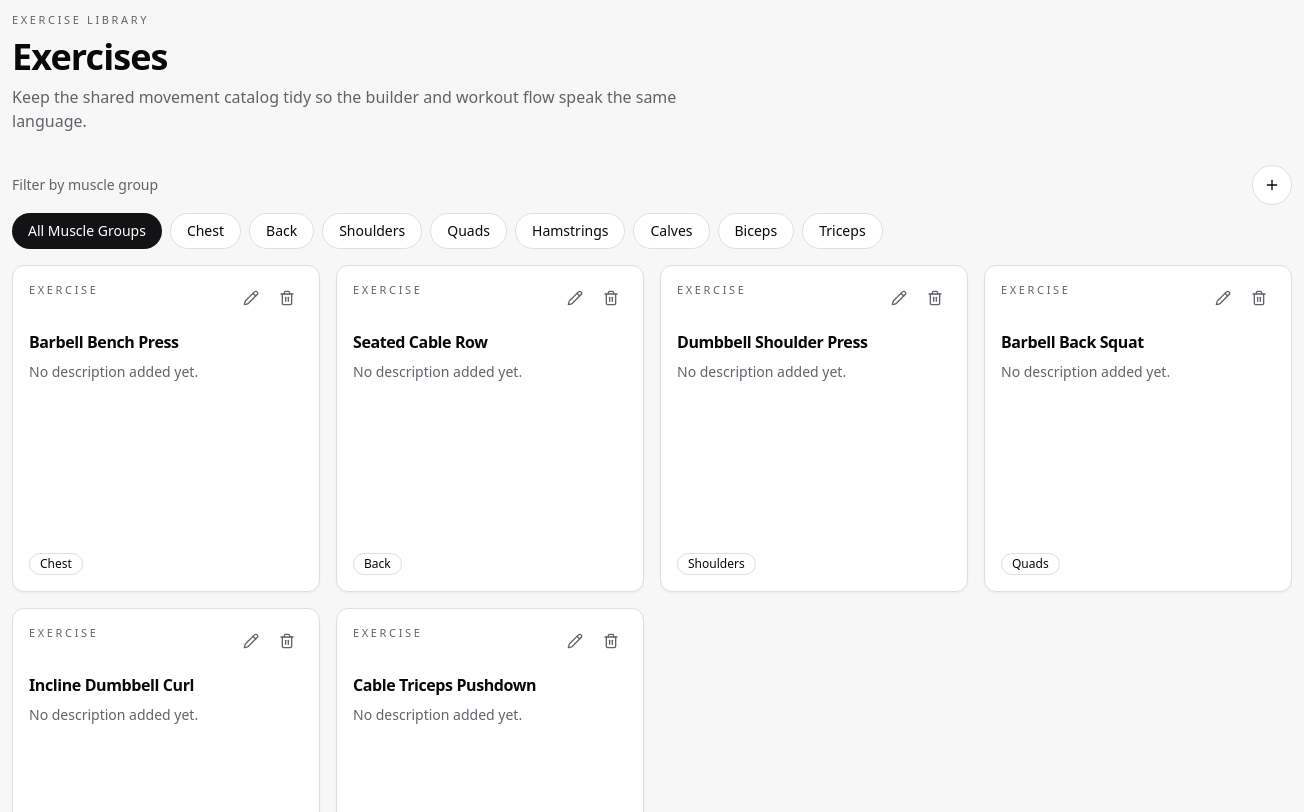
Test: ExercisesPage › cancels inline exercise edits without changing the card
Click the button named "edit barbell bench press exercise" at {"x": 251, "y": 298}, box [235,282,267,314]
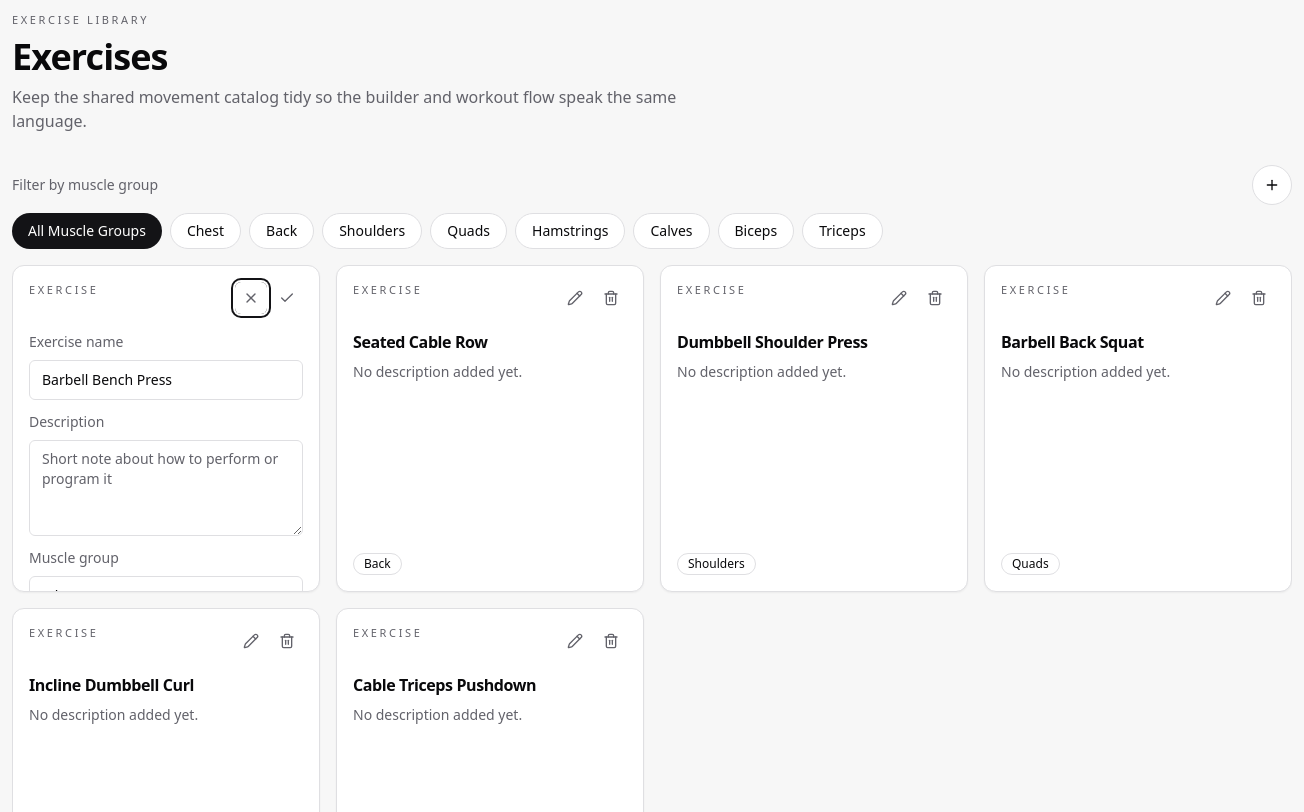
Replace the text in the field labelled "Exercise name" with "Temporary Name" at {"x": 166, "y": 380}, box [29,360,303,400]
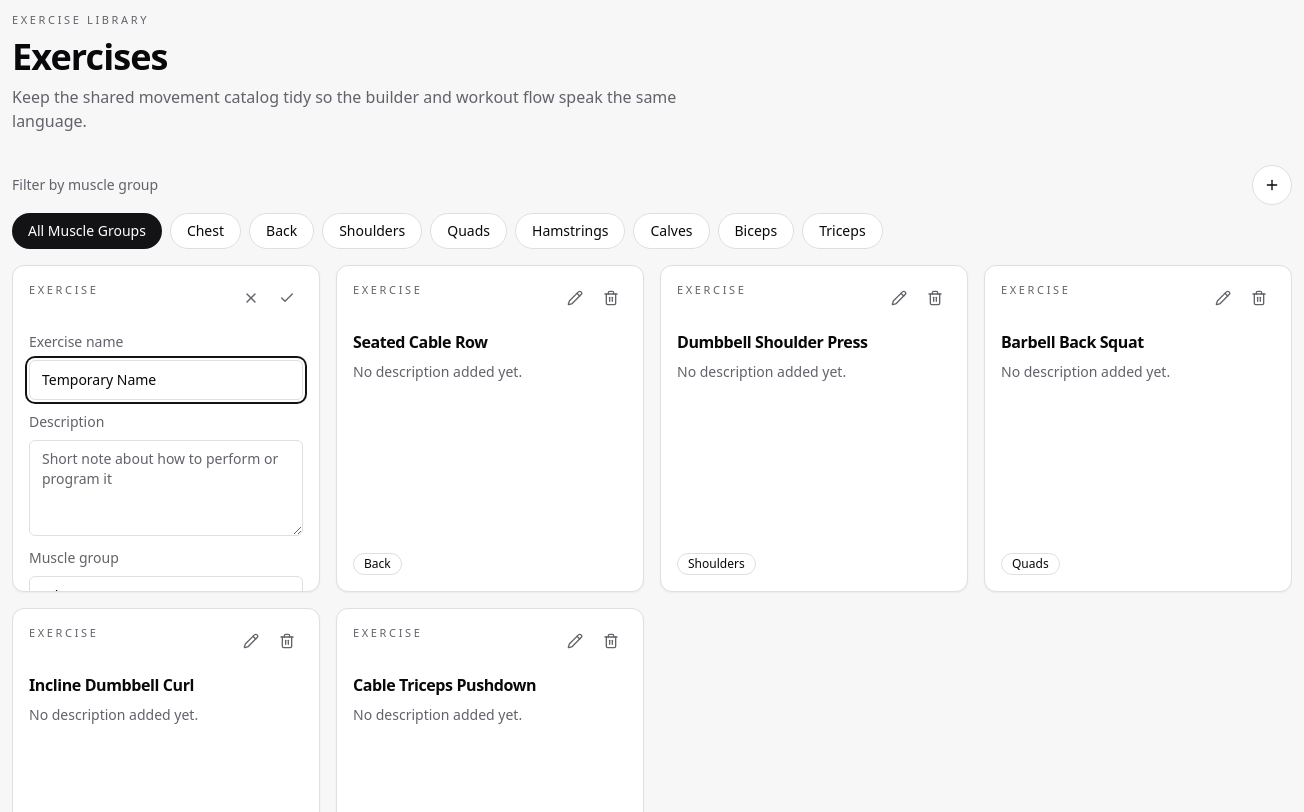
Click the button named "cancel editing barbell bench press exercise" at {"x": 251, "y": 298}, box [235,282,267,314]
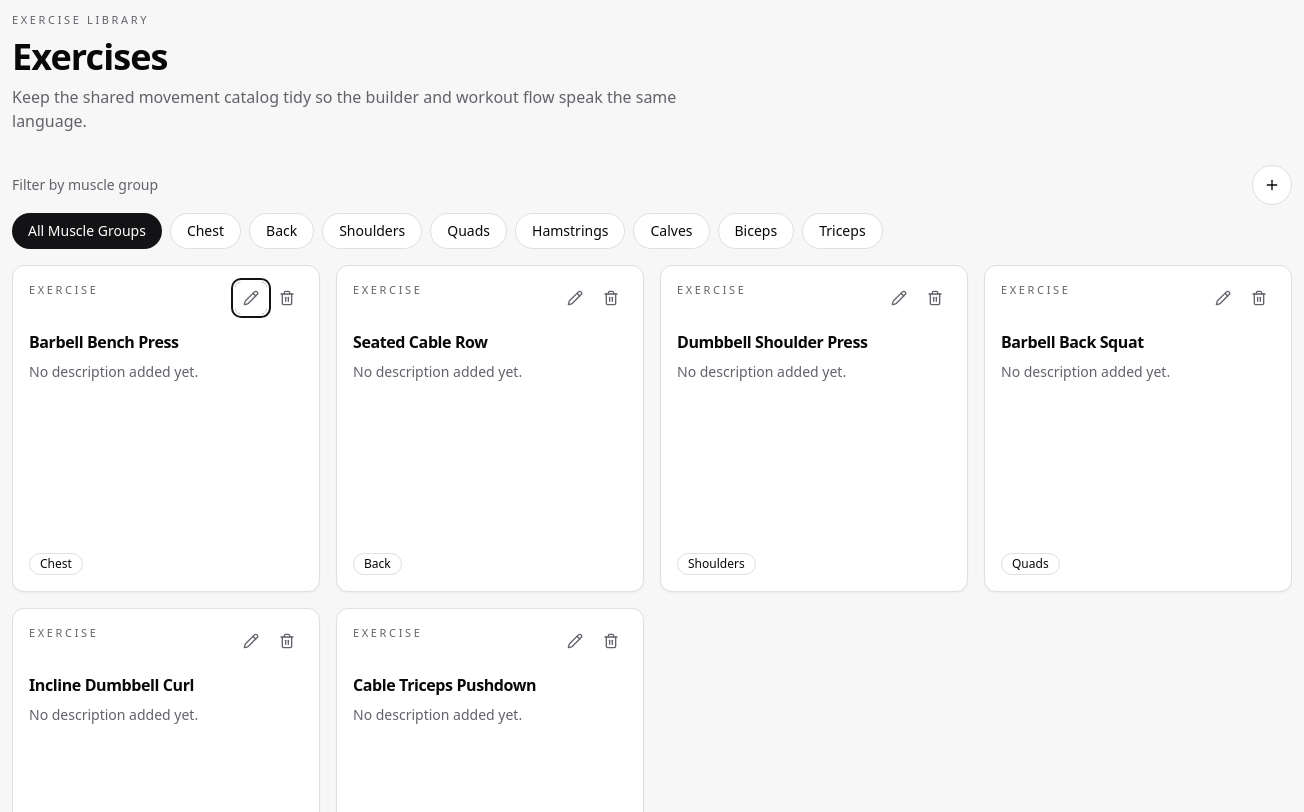
Check: the heading "temporary name" is not shown
Check: the heading "Barbell Bench Press" is shown, box [29,330,179,352]
